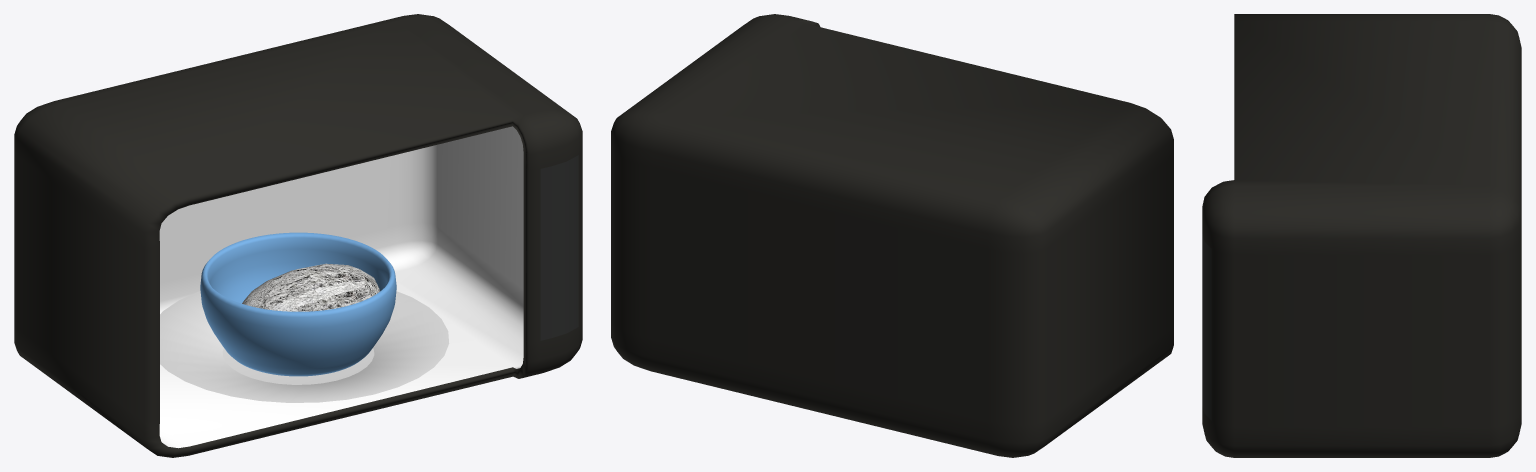
File: microwave.fbx
3 renders of one model, left to right at view 1: azimuth 30°, elevation 25°; view 2: azimuth 150°, elevation 25°; view 3: azimuth 270°, elevation 25°, orthographic.
Parts seen in each view (by area): view 1: microwave, bowl, plate, potato; view 2: microwave; view 3: microwave.
Part boxes in pixels (box(x1,y1,x2,y2)): microwave: box(14, 14, 582, 457); bowl: box(200, 232, 396, 376); plate: box(160, 291, 449, 402); potato: box(242, 263, 379, 311); microwave: box(611, 14, 1173, 457); microwave: box(1202, 14, 1521, 457).
Size of the model in its own units: 506 by 288 by 321.
6 materials, 1 textured.
